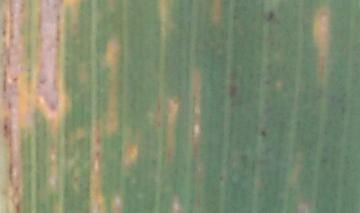tarspot: (263, 10, 280, 26), (228, 81, 239, 100), (217, 174, 227, 185), (228, 69, 236, 80), (2, 124, 13, 132), (63, 53, 72, 62), (259, 129, 267, 138), (320, 157, 327, 162)
